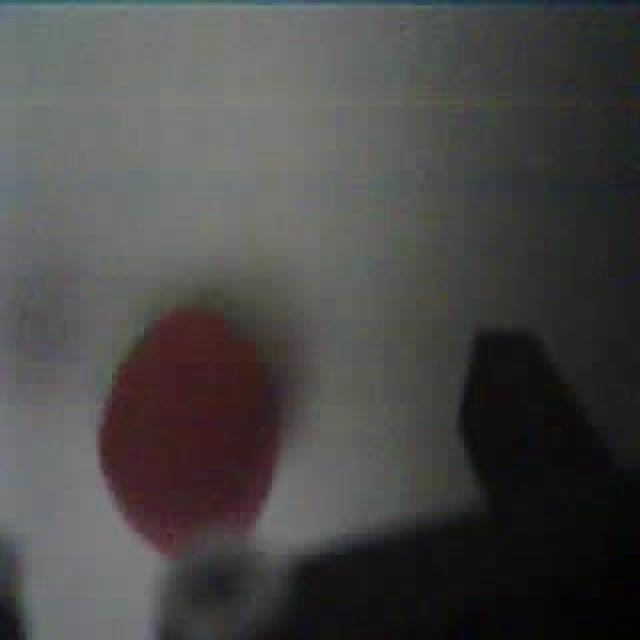red_ball: (94, 299, 288, 560)
